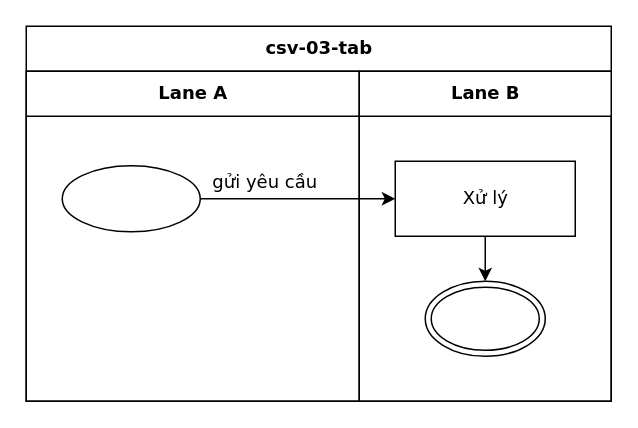
The diagram is 638 pixels wide and 428 high, and some of its shapes have lost their labels. Here are the shapes that lost their labels. From the top down, the centre of each, then its label:
At point 130,198: "Bắt đầu".
At point 484,318: "Xong".
